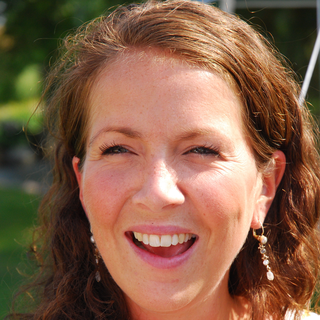eye: (178, 140, 226, 164), (97, 139, 142, 163)
